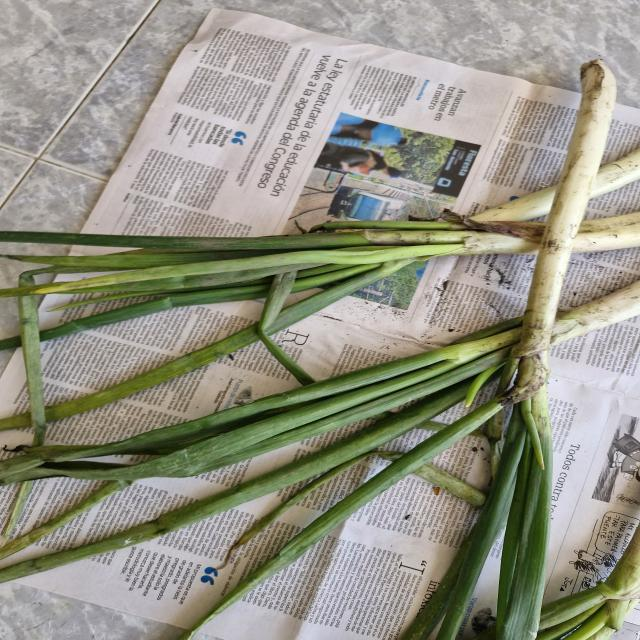green_onion: (421, 61, 625, 640)
